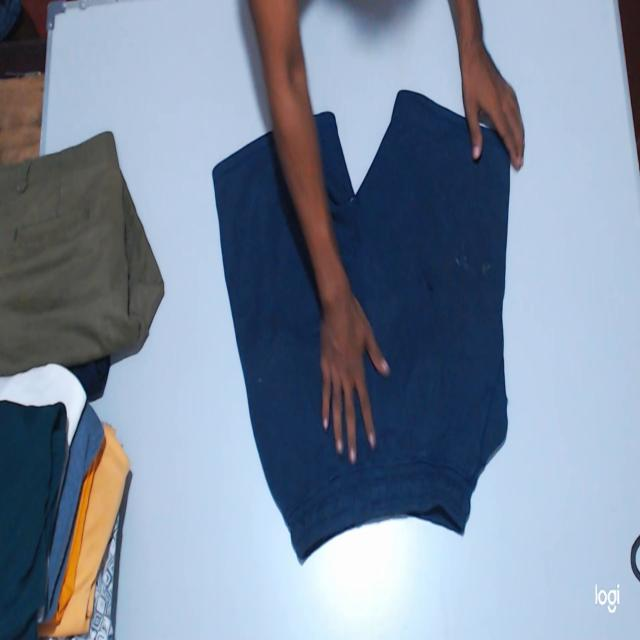new-garment: (213, 90, 509, 558)
